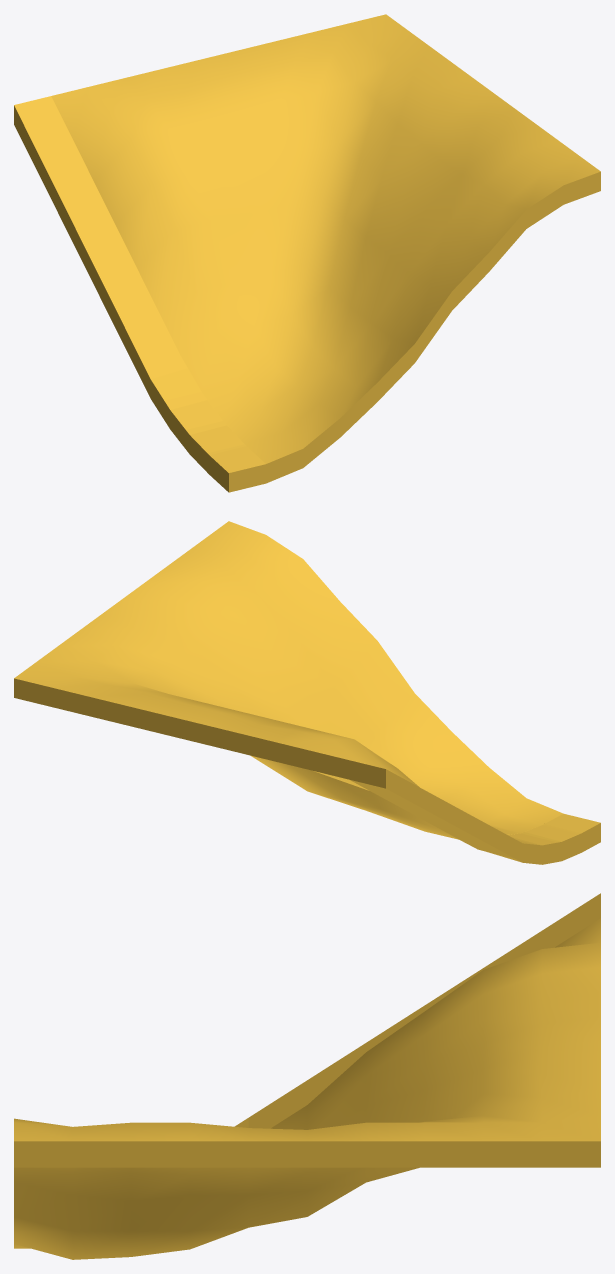
Rendered from Steil - Unten - Ecke Invertiert x - a.fbx.
The picture shows the model from 3 angles, top to bottom: view 1: azimuth 30°, elevation 25°; view 2: azimuth 150°, elevation 25°; view 3: azimuth 270°, elevation 25°; orthographic projection. The views are drawn at different scales.
Parts seen in each view (by area): view 1: Steil - Unten - Ecke Invertiert x - a; view 2: Steil - Unten - Ecke Invertiert x - a; view 3: Steil - Unten - Ecke Invertiert x - a.
Part boxes in pixels (<box>): Steil - Unten - Ecke Invertiert x - a: <box>14,14,600,492</box>; Steil - Unten - Ecke Invertiert x - a: <box>14,521,600,864</box>; Steil - Unten - Ecke Invertiert x - a: <box>14,893,600,1259</box>.
Bounding box in the file's own units: 394 × 233 × 394.
